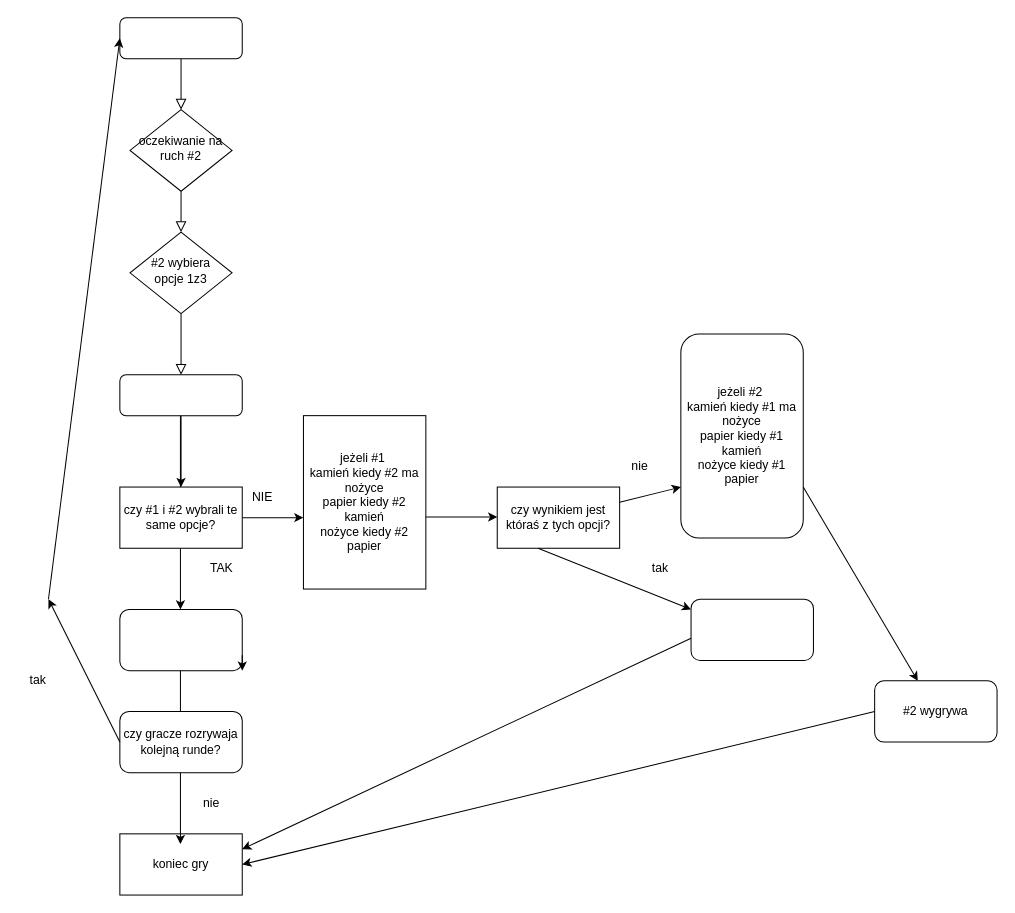
The diagram is 1015 pixels wide and 913 high, and some of its shapes have lost their labels. Here are the shapes that lost their labels. From the top down, the box of each, then its label:
(119, 17, 242, 59): #1 wybiera opcję 1z3
(119, 374, 242, 416): sprawdzanie
(119, 608, 242, 671): remis
(690, 598, 813, 660): #1 wygrywa
